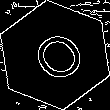O_SE: (20, 22, 90, 88)
